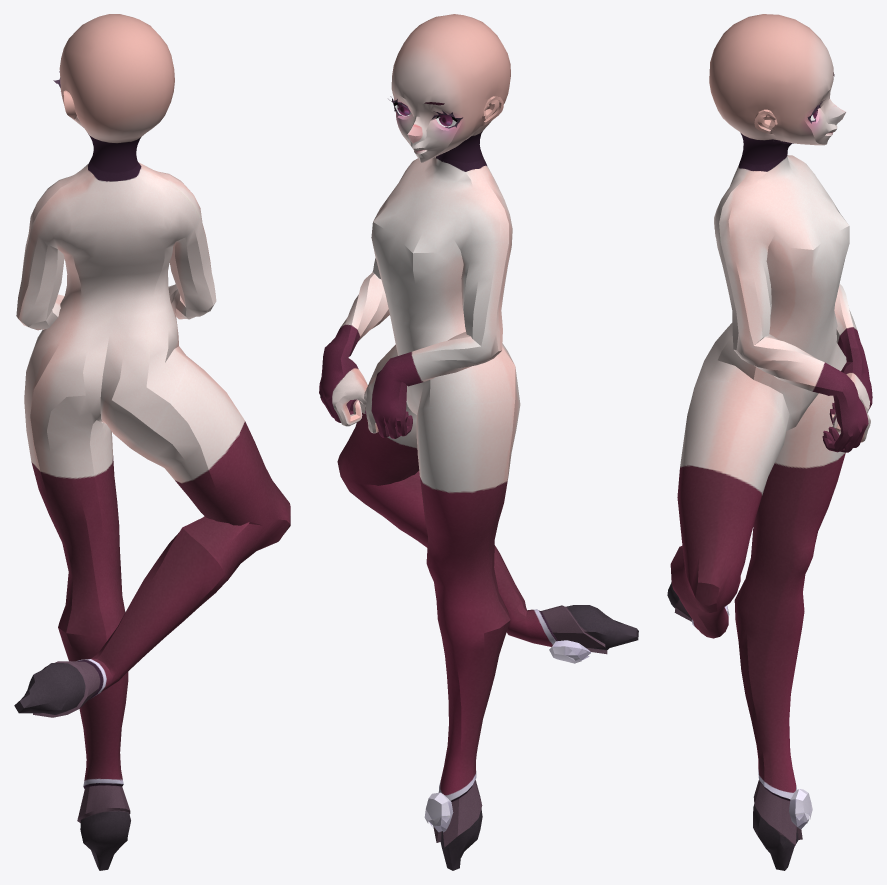
Rendered from Body.fbx.
The picture shows the model from 3 angles, left to right: view 1: azimuth 30°, elevation 25°; view 2: azimuth 150°, elevation 25°; view 3: azimuth 270°, elevation 25°; orthographic projection.
Visible parts, largest first — view 1: Body; view 2: Body; view 3: Body.
Part boxes in pixels (x1,y1,x2,y2): Body: [14, 14, 290, 870]; Body: [319, 14, 638, 870]; Body: [667, 14, 872, 870].
Size of the model in its own units: 57.24 by 162 by 35.43.
